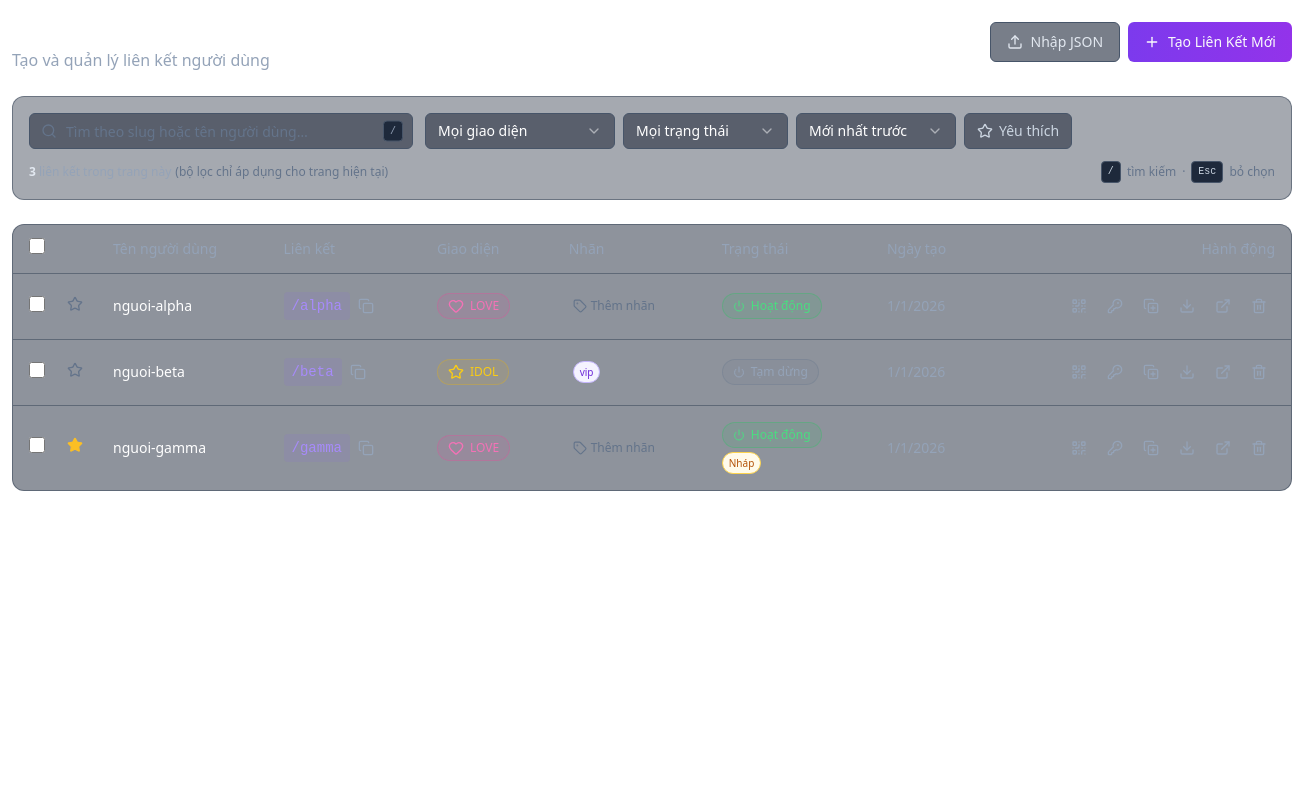
LinksTable — phím tắt › không chiếm phím / khi đang gõ trong ô nhập
This screenshot has width=1304, height=812.
Click the field labelled "Tìm theo slug hoặc tên người dùng…" at [221, 131], box [29,113,413,149]
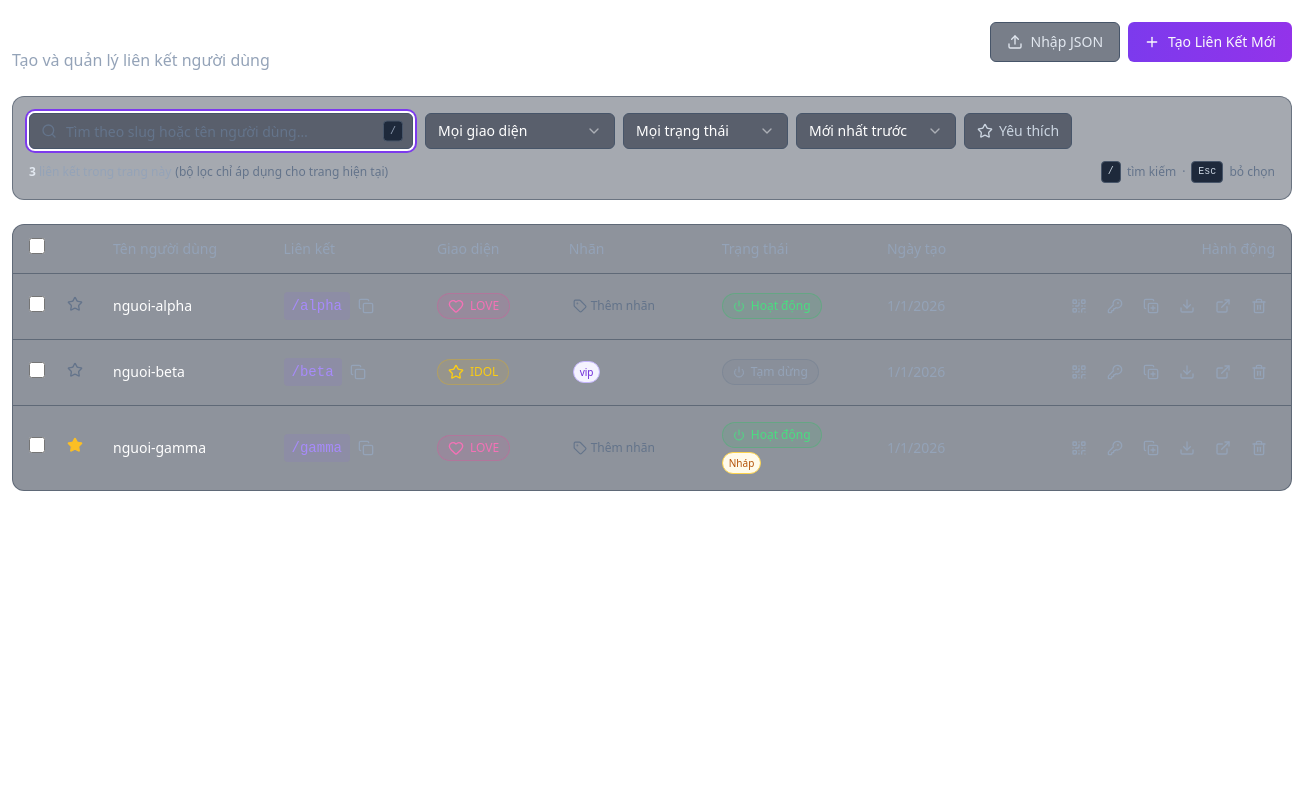
Type keys "a/b"
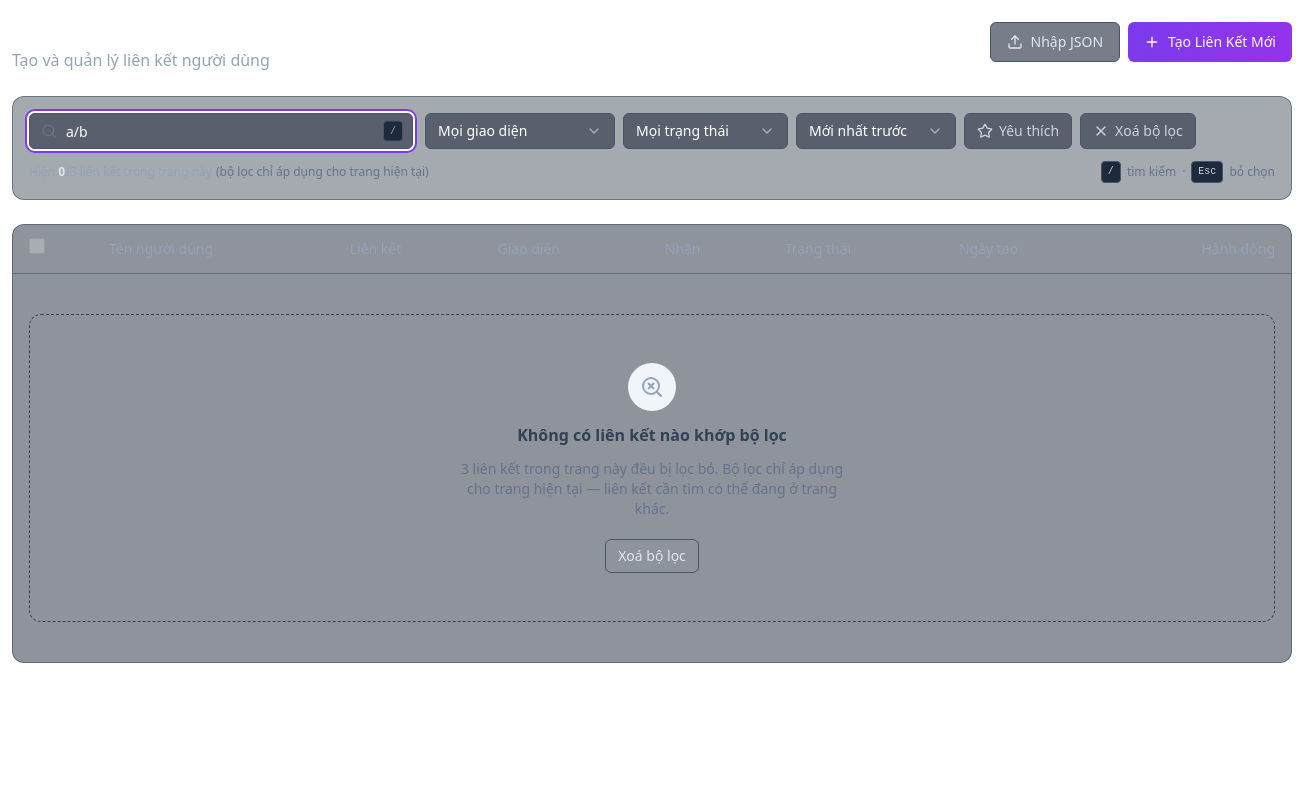
Check: the field named "Tìm theo slug" holds "a/b", box [29,113,413,149]
